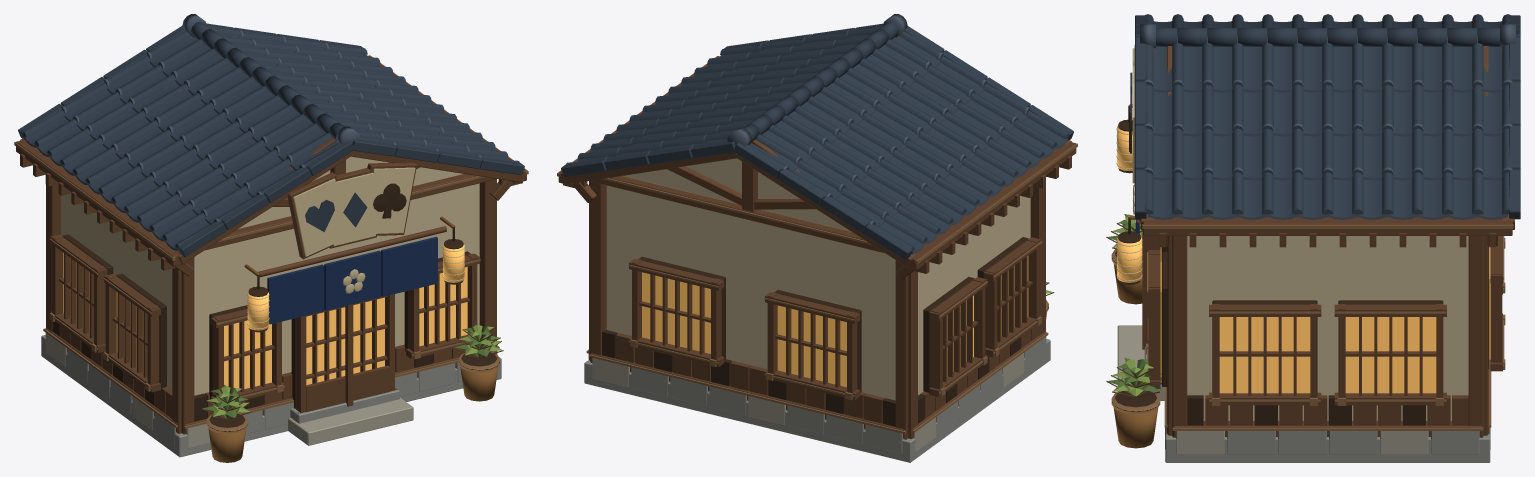
3 views of the same model, side by side, from view 1: azimuth 30°, elevation 25°; view 2: azimuth 150°, elevation 25°; view 3: azimuth 270°, elevation 25° (orthographic). The views are drawn at different scales.
Visible parts, largest first — view 1: compact_card_pavilion_geometry; view 2: compact_card_pavilion_geometry; view 3: compact_card_pavilion_geometry.
Boxes of the visible parts, x1,y1,x2,y2 form: compact_card_pavilion_geometry: [14, 14, 528, 462]; compact_card_pavilion_geometry: [557, 14, 1077, 462]; compact_card_pavilion_geometry: [1106, 14, 1520, 462].
Bounding box in the file's own units: 1.04 × 0.817 × 0.8874.
